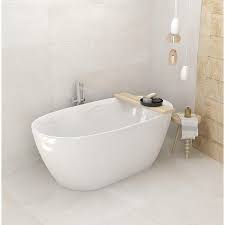bathub: (27, 92, 175, 194)
